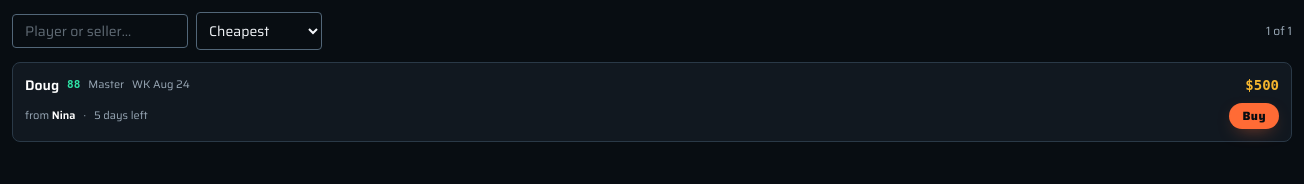
Test: MarketBoard › renders the action's refusal instead of pre-empting it
This screenshot has width=1304, height=184.
What coordinates should you click on to do the following:
click the button "Buy"
I would click on:
 (1254, 116)
Its box is [1229,103,1279,129].
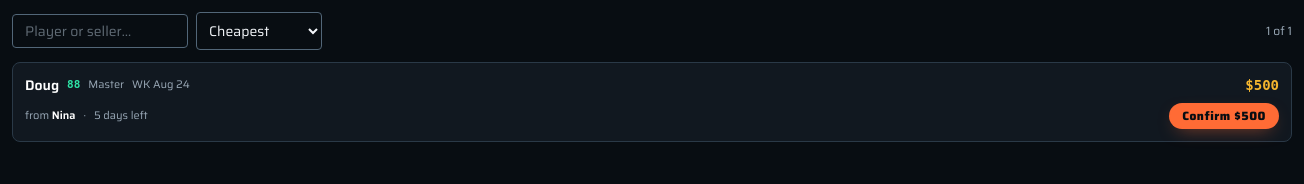
What coordinates should you click on to do the following:
click the button "Confirm $500"
I would click on:
 (1224, 116)
Its box is [1169,103,1279,129].
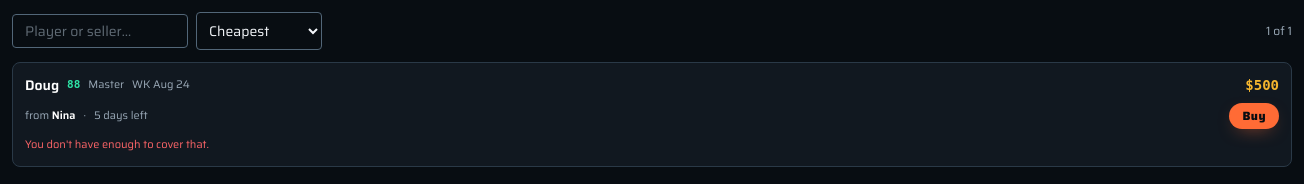
Now the text "You don't have enough to cover that." is shown, box [25,136,209,153]
